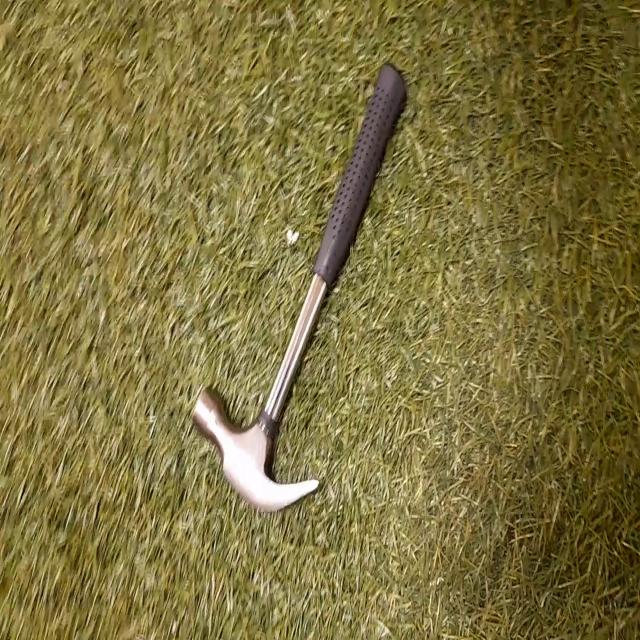hammer: (192, 62, 406, 512)
